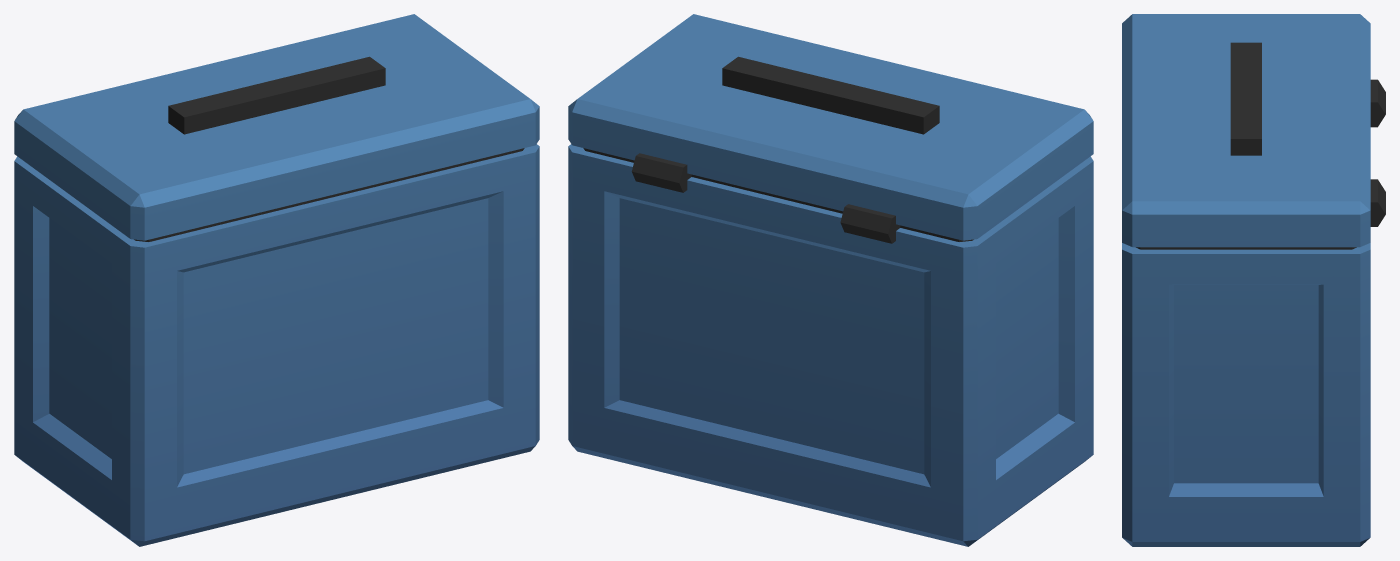
File: AmoBox_05.fbx
3 renders of one model, left to right at view 1: azimuth 30°, elevation 25°; view 2: azimuth 150°, elevation 25°; view 3: azimuth 270°, elevation 25°, orthographic.
Visible parts, largest first — view 1: AmoBox_05; view 2: AmoBox_05; view 3: AmoBox_05.
Boxes of the visible parts, box(x1,y1,x2,y2) form: AmoBox_05: box(14, 14, 539, 546); AmoBox_05: box(568, 14, 1093, 546); AmoBox_05: box(1122, 14, 1385, 546).
Bounding box in the file's own units: 0.3506 × 0.3027 × 0.1995.
